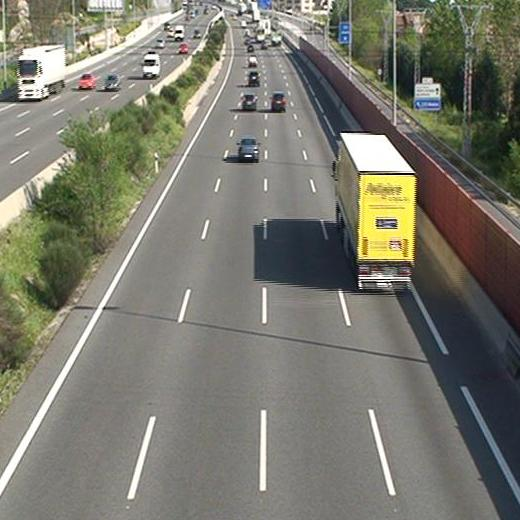car: (237, 138, 258, 160), (271, 94, 286, 110), (242, 95, 258, 110), (248, 71, 261, 85), (248, 56, 258, 66)
truck: (337, 135, 417, 289)
